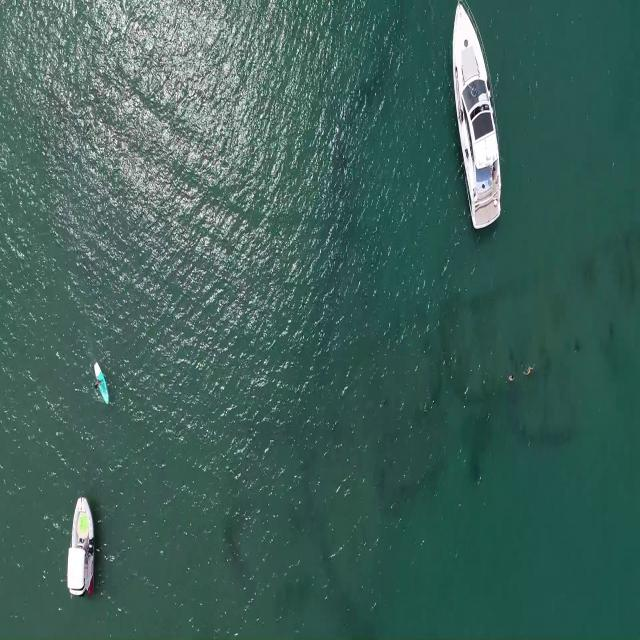boat: (450, 7, 504, 231), (66, 491, 98, 603)
person: (524, 364, 537, 378), (92, 376, 103, 391), (508, 374, 516, 384)
surfboard: (94, 359, 109, 410)
